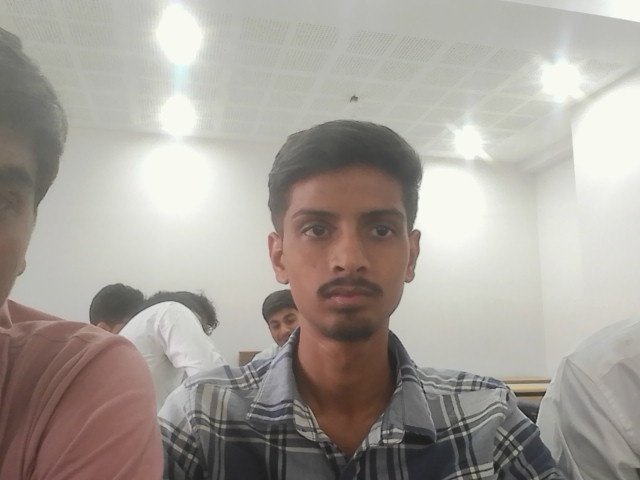fan_on: (340, 94, 370, 154)
light_on: (119, 15, 218, 154), (531, 52, 585, 103), (453, 125, 486, 156), (629, 10, 640, 25)
person: (0, 45, 165, 478), (251, 135, 460, 443), (535, 305, 639, 479)
